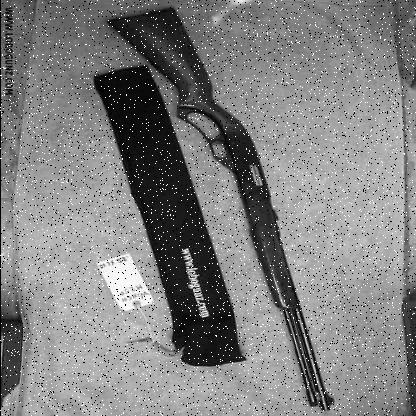rifle: (95, 3, 353, 415)
